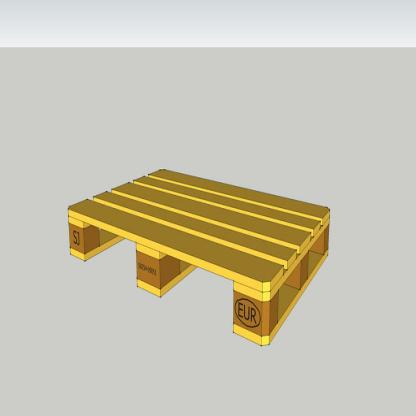BoxFace: (67, 163, 330, 346)
